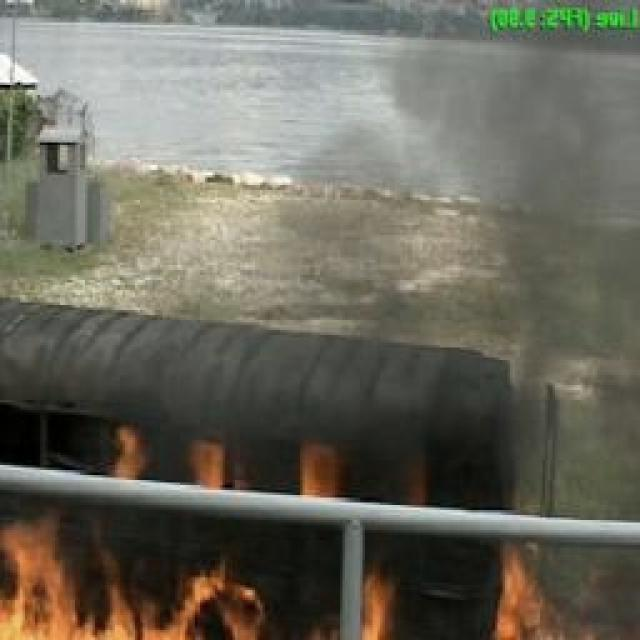Fire: (0, 522, 273, 637), (280, 435, 435, 504), (496, 533, 559, 640), (340, 538, 401, 640), (103, 445, 227, 493)
